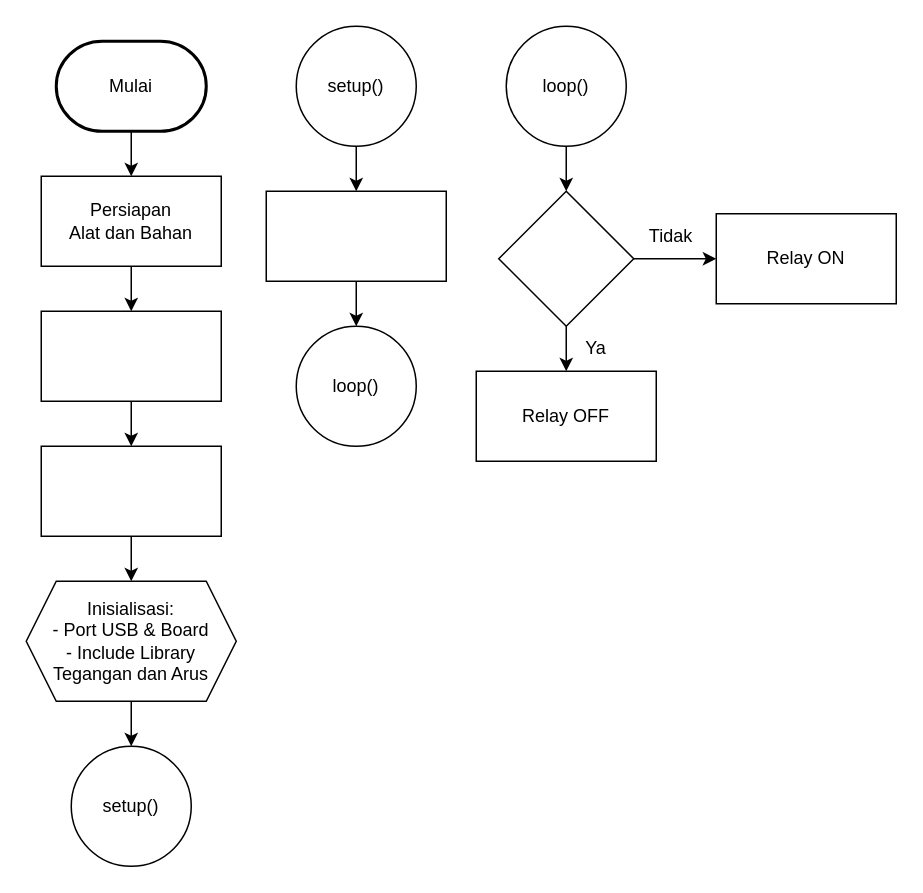
Some shapes in this 923 by 893 pixel diagram are drawn without their labels. The centre of each missing label's shape, as x and y in pixels:
- Deklarasi Variabel - Setup Pin Sensor Tegangan dan Arus, Relay: the point at 355,235
Buka IDE Arduino: the point at 130,490
Hubungkan WEMOS ESP8266 ke PC: the point at 130,355
volt => 12.6 // maks: the point at 565,258
